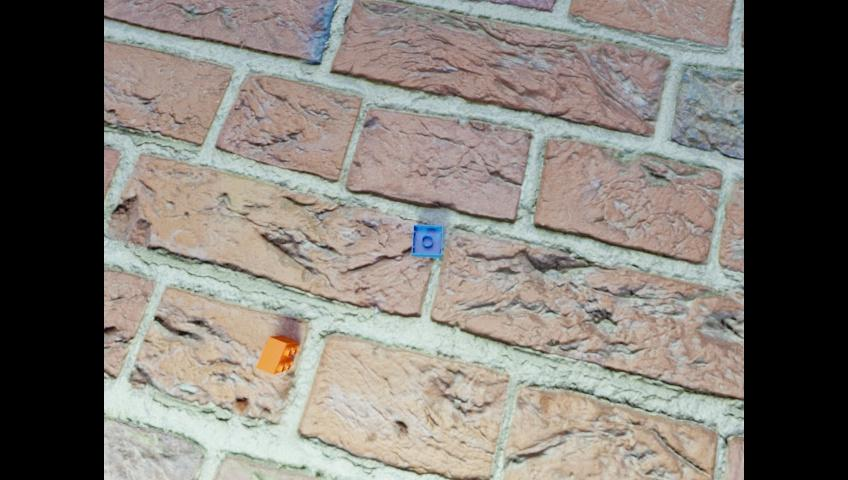2x2_blue: (412, 224, 443, 257)
2x2_orange: (255, 334, 297, 374)
